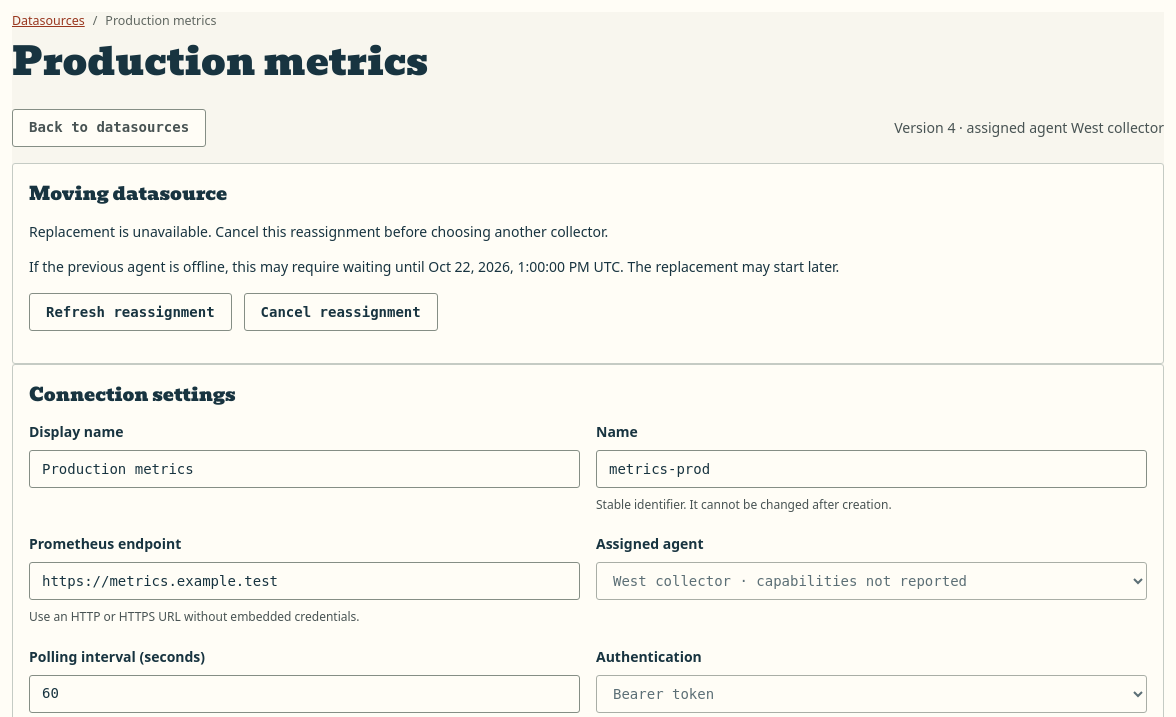
Test case: datasource page › shows pending reassignment and cancels with the source and current version
Expected: the heading "Moving datasource" is shown, [29, 179, 227, 208]
Expected: the field labelled "Prometheus endpoint" is disabled, [29, 562, 580, 600]
Click the button "Cancel reassignment": (341, 312) [244, 293, 438, 331]
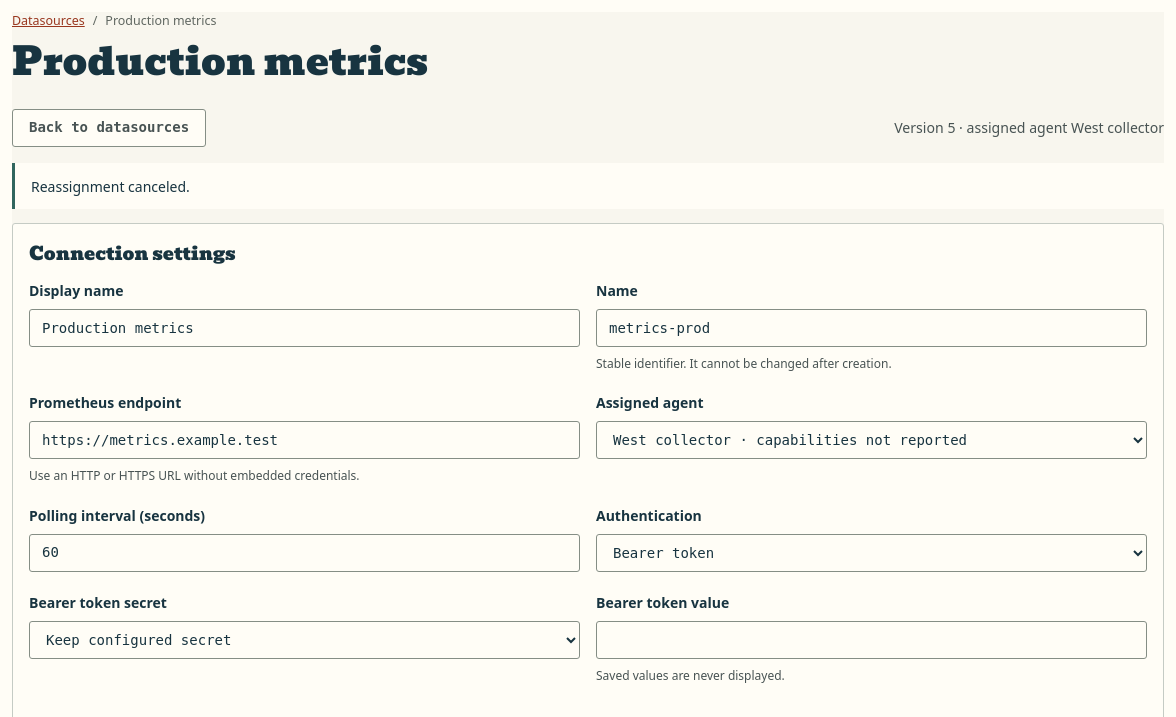
Expected: the text "Reassignment canceled." is shown, [12, 163, 1164, 209]
